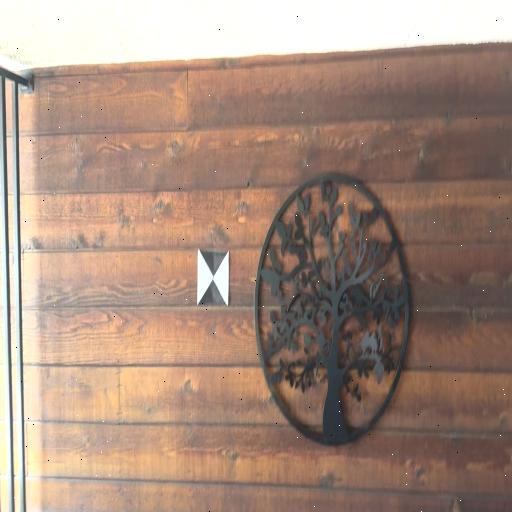target: (198, 250, 228, 305)
